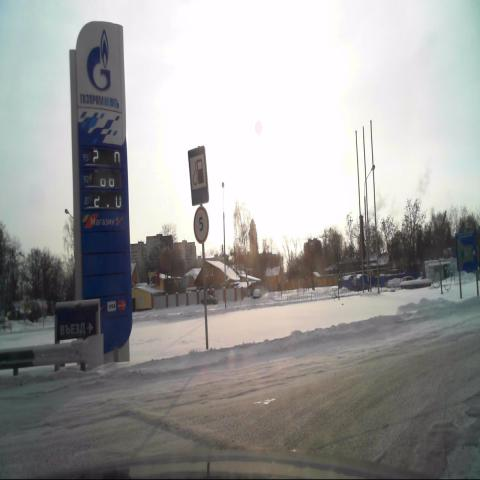7_3: (187, 145, 209, 205)
